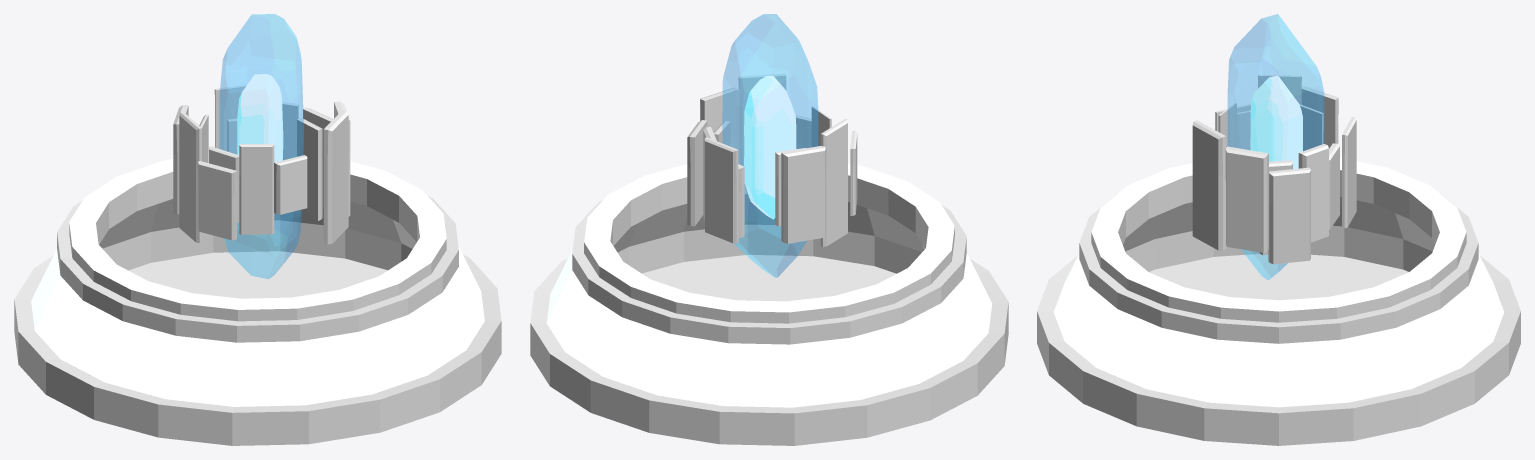
Rendered from crystal_structure.glb.
The picture shows the model from 3 angles, left to right: view 1: azimuth 30°, elevation 25°; view 2: azimuth 150°, elevation 25°; view 3: azimuth 270°, elevation 25°; orthographic projection.
Visible parts, largest first — view 1: crystarBase_ground_base, crystarBase_float_metal, crystarBase_float_bright_crystal; view 2: crystarBase_ground_base, crystarBase_float_metal, crystarBase_float_bright_crystal; view 3: crystarBase_ground_base, crystarBase_float_metal, crystarBase_float_bright_crystal.
Part boxes in pixels (left/top/right/bottom): crystarBase_ground_base: left=14, top=153, right=501, bottom=445; crystarBase_float_metal: left=173, top=85, right=350, bottom=244; crystarBase_float_bright_crystal: left=219, top=14, right=303, bottom=278; crystarBase_ground_base: left=530, top=163, right=1008, bottom=445; crystarBase_float_metal: left=687, top=73, right=857, bottom=246; crystarBase_float_bright_crystal: left=722, top=14, right=818, bottom=277; crystarBase_ground_base: left=1037, top=157, right=1520, bottom=445; crystarBase_float_metal: left=1192, top=74, right=1356, bottom=264; crystarBase_float_bright_crystal: left=1228, top=14, right=1323, bottom=279.
Size of the model in its own units: 4.62 by 3.44 by 4.62.
